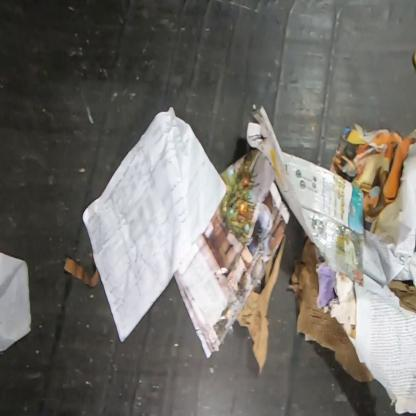cardboard: (245, 106, 365, 287), (287, 232, 376, 383), (387, 280, 416, 314)
